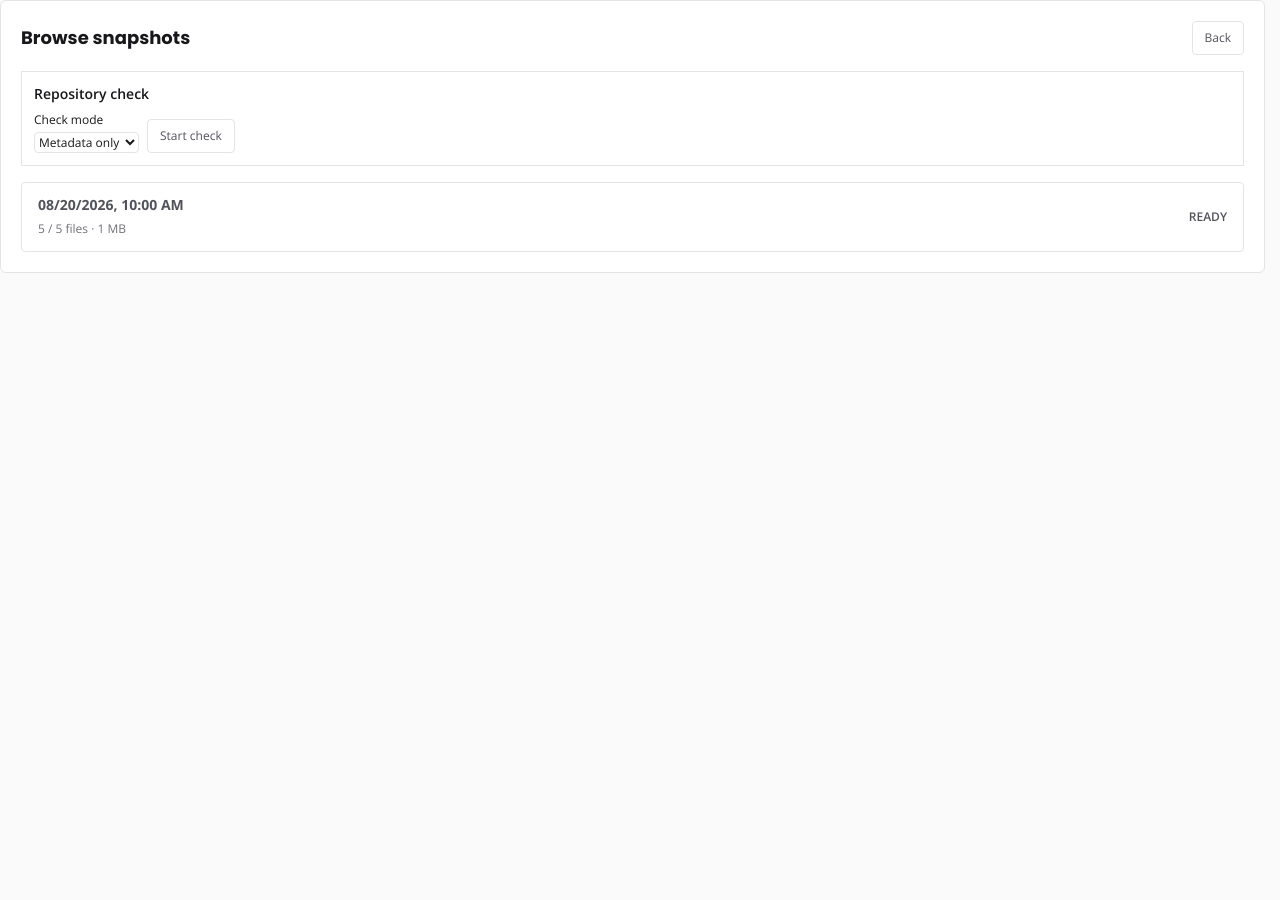
Test: BackupSnapshotBrowser › selects paths, opens restore dialog, generates preview and consumes preview
Click the button "08/20/2026, 10:00 AM 5 / 5 files · 1 MB READY".
click(111, 204)  # box [21,182,1244,252]
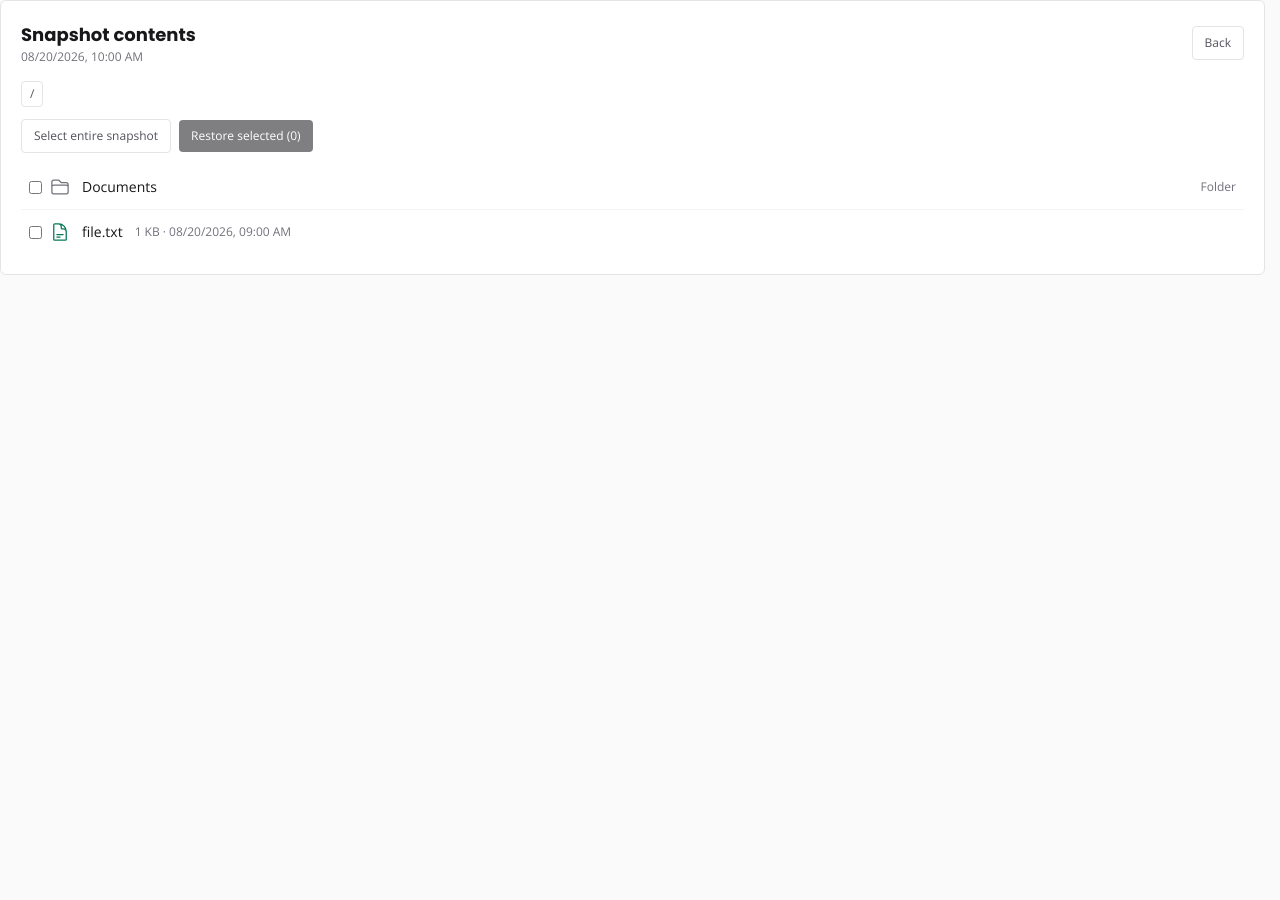
Now the checkbox named "file.txt" is shown
Click the checkbox named "file.txt".
click(36, 232)  # box [29,226,42,238]
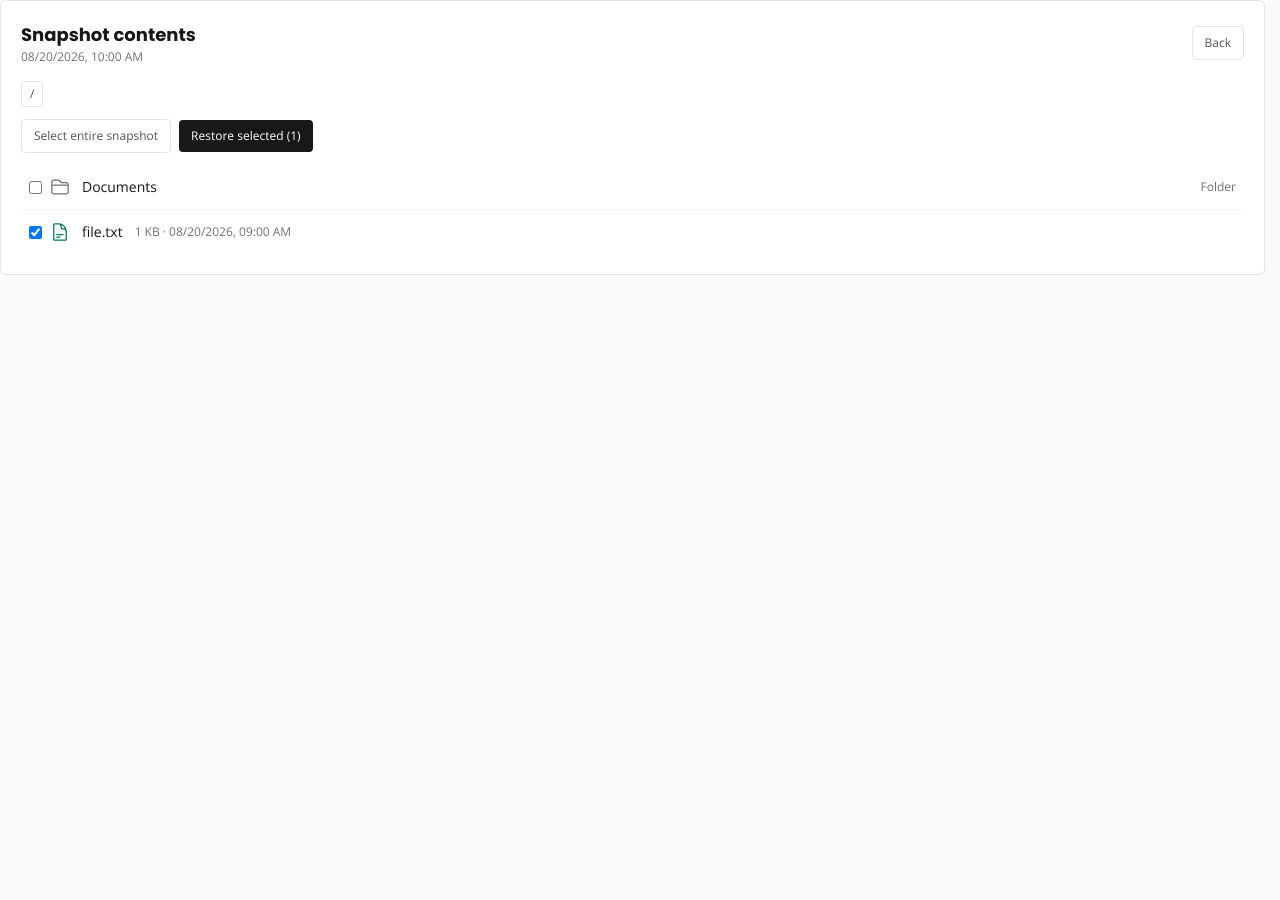
Now the button with class "ui-button-primary" reads "Restore selected (1)"
Click the button with class "ui-button-primary".
click(246, 136)  # box [179,120,313,152]
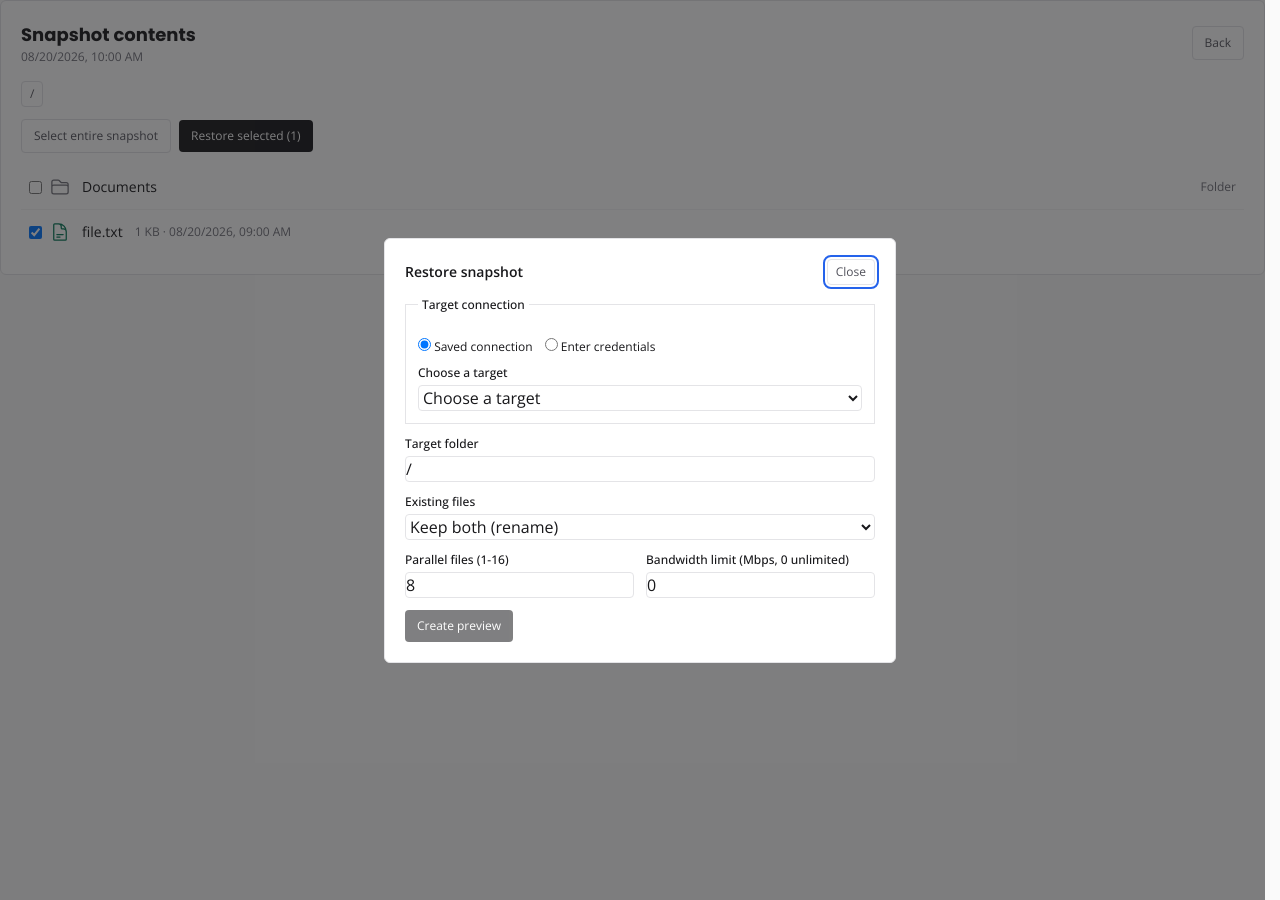
Now the text "Restore snapshot" is shown, box [405,262,523,282]
Select "My Target (nextcloud)" in the dropdown labelled "Choose a target" at (640, 398), box [418,384,862,410]
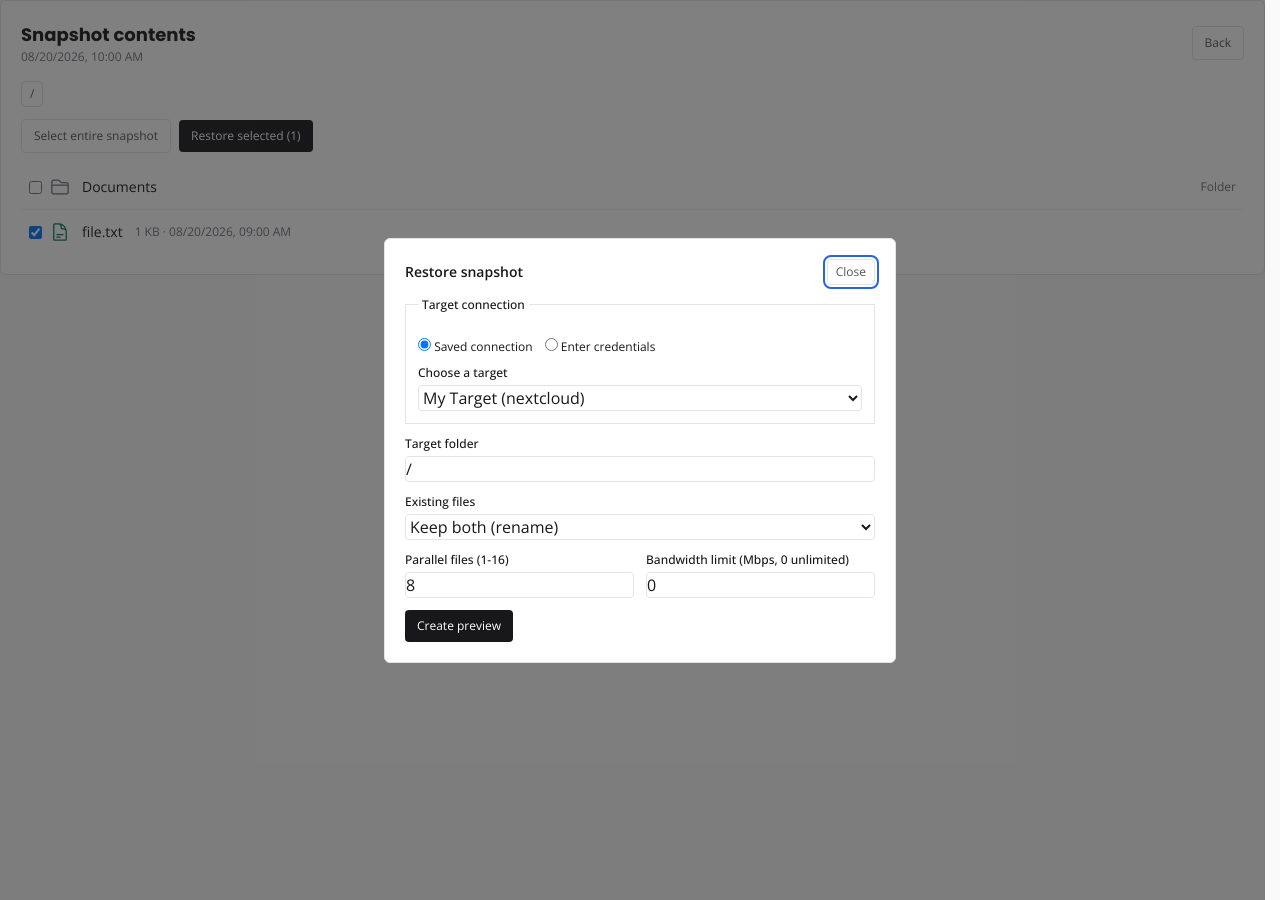
Now the button "Create preview" is shown
Click the button "Create preview".
click(459, 626)  # box [405,610,513,642]
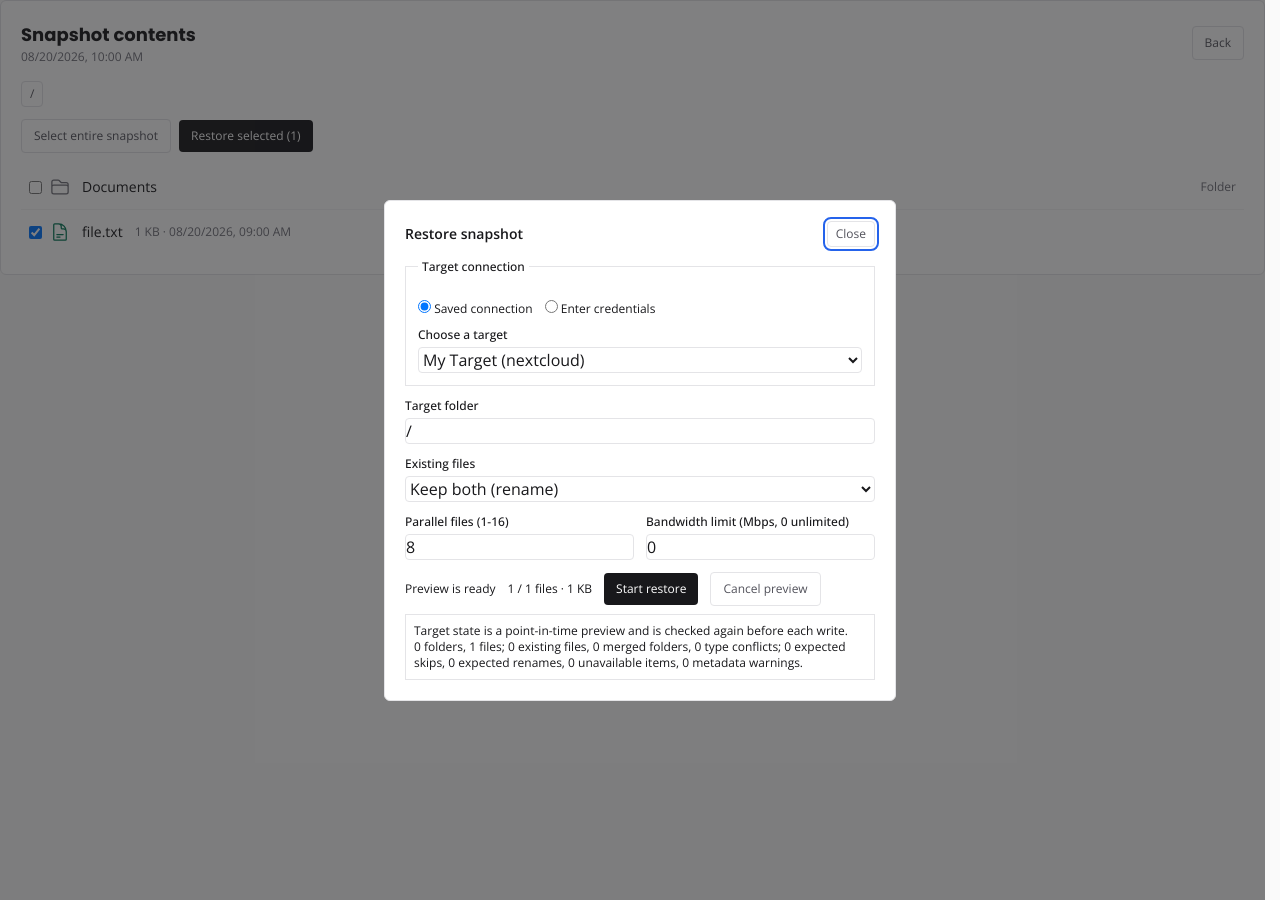
Now the button "Start restore" is shown
Now the text "Preview is ready" is shown, box [405,580,496,596]
Click the button "Start restore".
click(651, 588)  # box [604,572,698,604]
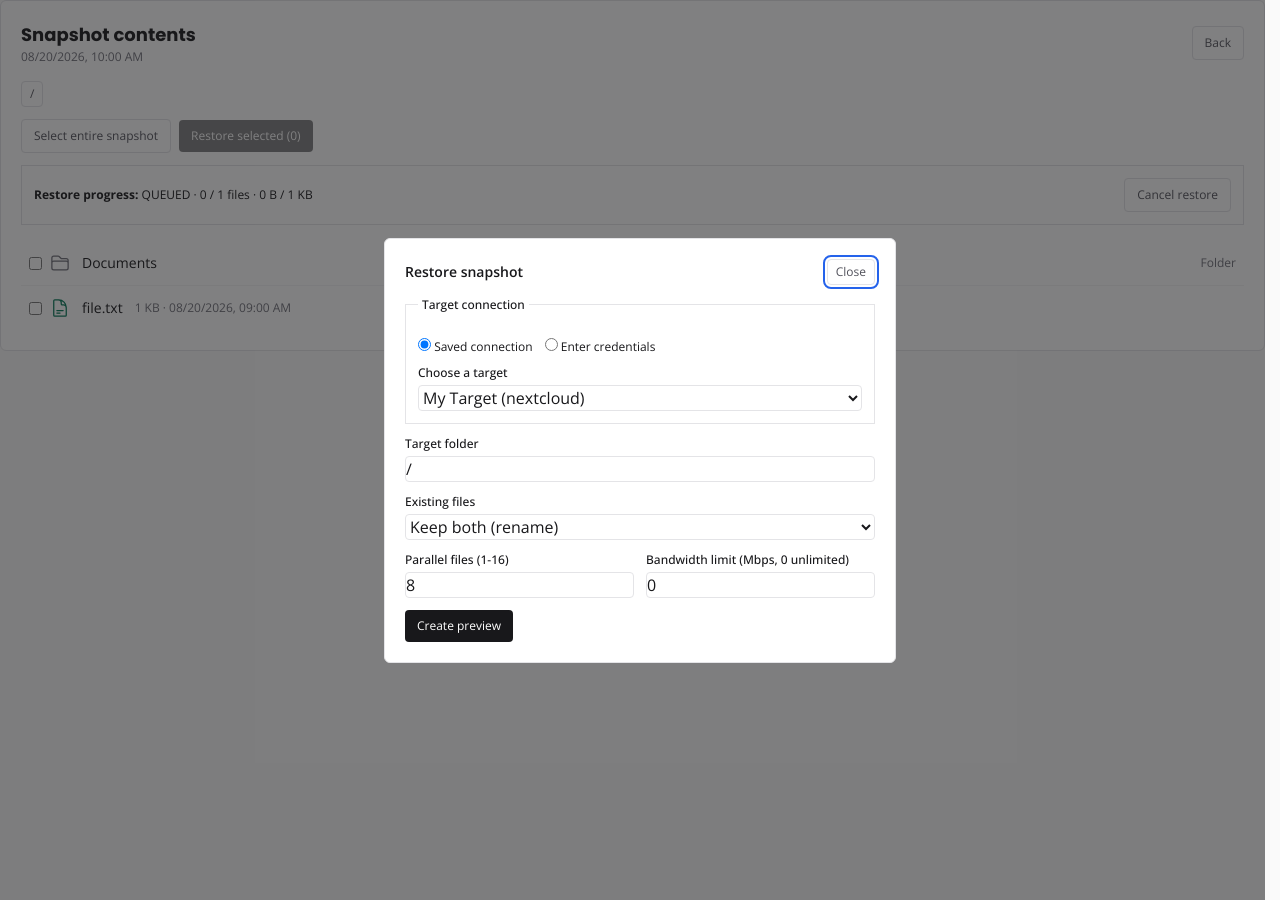
Now the text "Restore progress" is shown, box [34,186,138,203]
